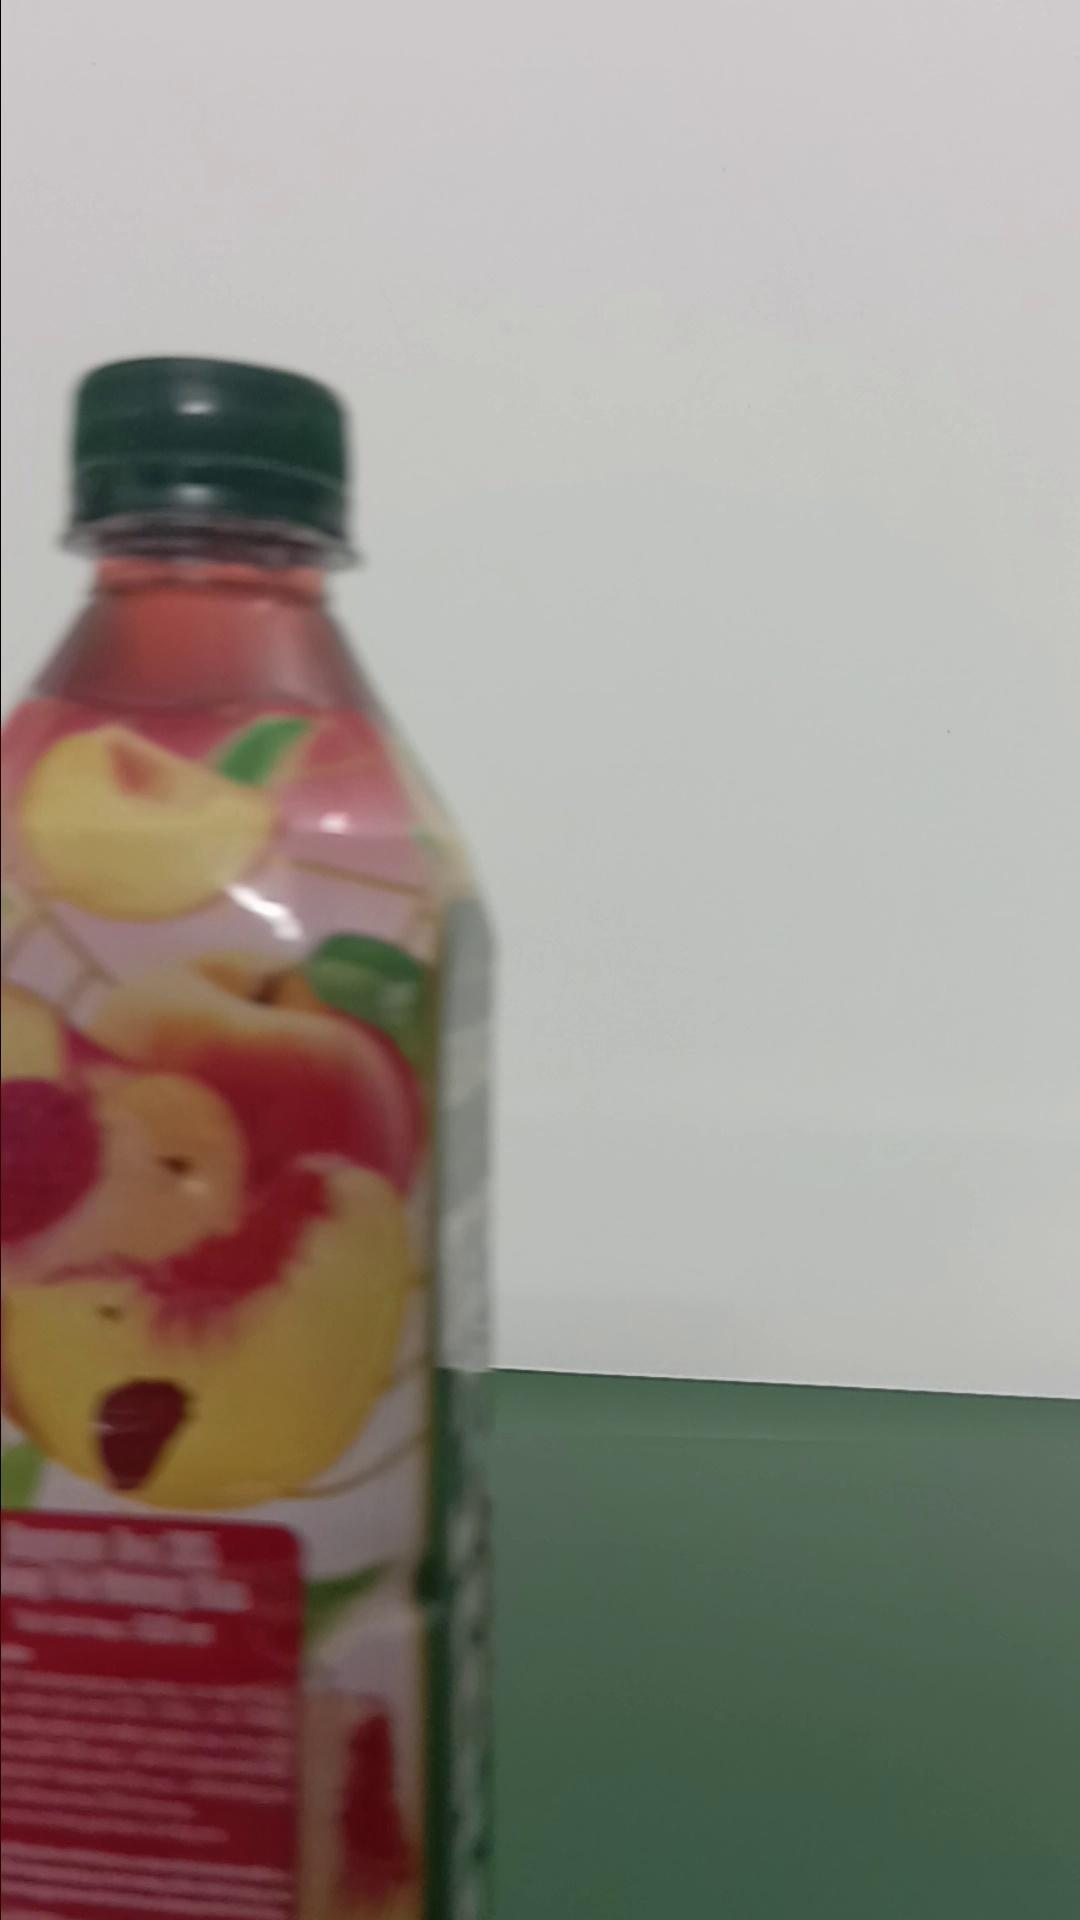loi rach va lap chai: (3, 352, 508, 1920)
